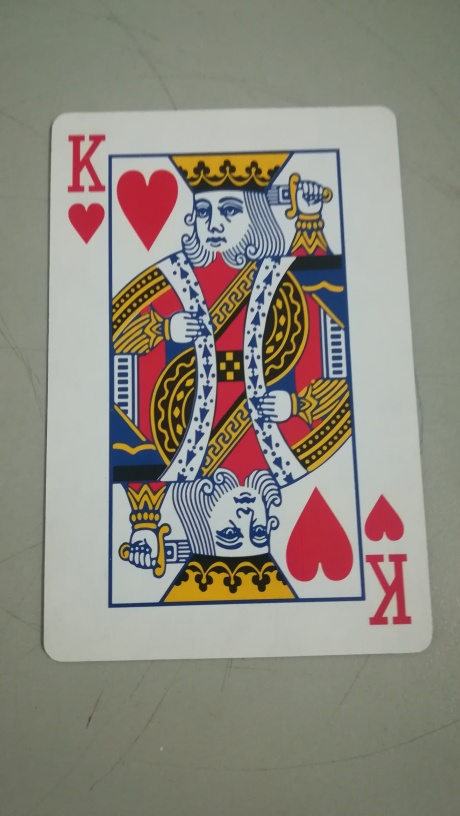hx k: (43, 108, 437, 666)
